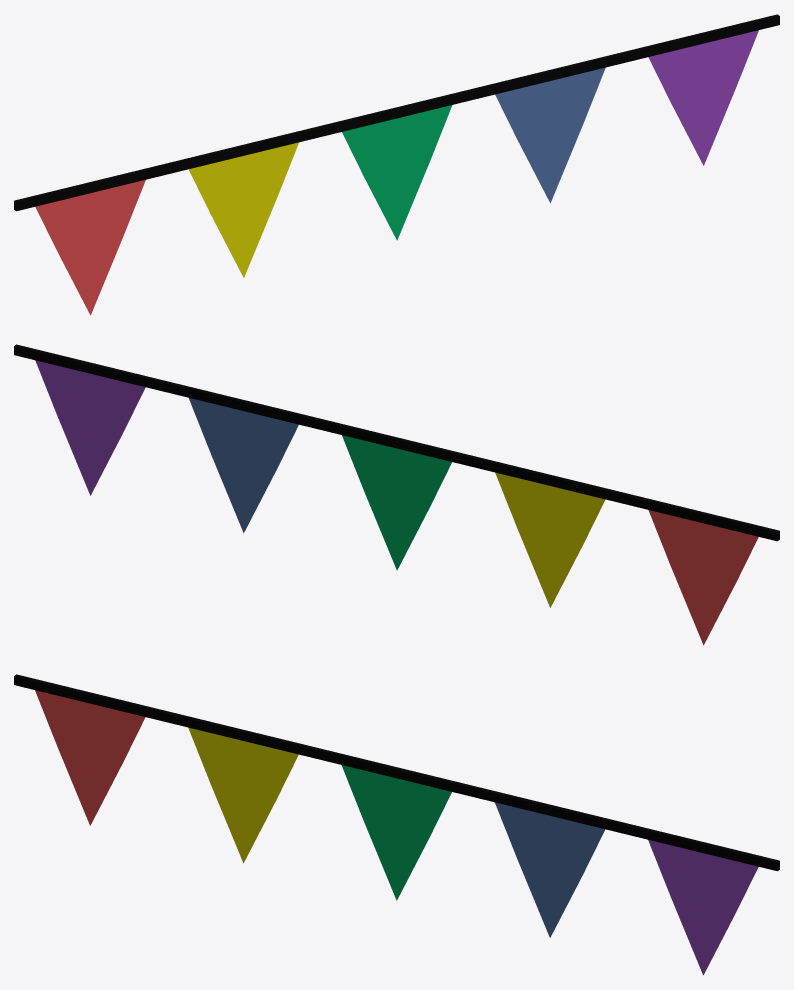
The model's file is midFlags_v1.fbx.
3 renders of one model, top to bottom at view 1: azimuth 30°, elevation 25°; view 2: azimuth 150°, elevation 25°; view 3: azimuth 330°, elevation 25°, orthographic.
Visible parts, largest first — view 1: string_geo, flag05_geo, flag03_geo, flag04_geo, flag01_geo, flag02_geo; view 2: string_geo, flag01_geo, flag02_geo, flag04_geo, flag05_geo, flag03_geo; view 3: string_geo, flag01_geo, flag02_geo, flag03_geo, flag05_geo, flag04_geo.
Part boxes in pixels (<box>): string_geo: <box>14,14,779,211</box>; flag05_geo: <box>648,30,758,165</box>; flag03_geo: <box>342,105,452,240</box>; flag04_geo: <box>495,67,605,202</box>; flag01_geo: <box>35,180,145,315</box>; flag02_geo: <box>188,142,298,277</box>; string_geo: <box>14,344,779,541</box>; flag01_geo: <box>648,510,758,645</box>; flag02_geo: <box>495,472,605,607</box>; flag04_geo: <box>189,398,298,532</box>; flag05_geo: <box>35,360,145,495</box>; flag03_geo: <box>342,435,451,570</box>; string_geo: <box>14,674,779,871</box>; flag01_geo: <box>35,690,145,825</box>; flag02_geo: <box>188,727,298,862</box>; flag03_geo: <box>341,765,451,900</box>; flag05_geo: <box>648,840,758,975</box>; flag04_geo: <box>495,802,605,937</box>.
Size of the model in its own units: 675 by 112 by 3.75.
